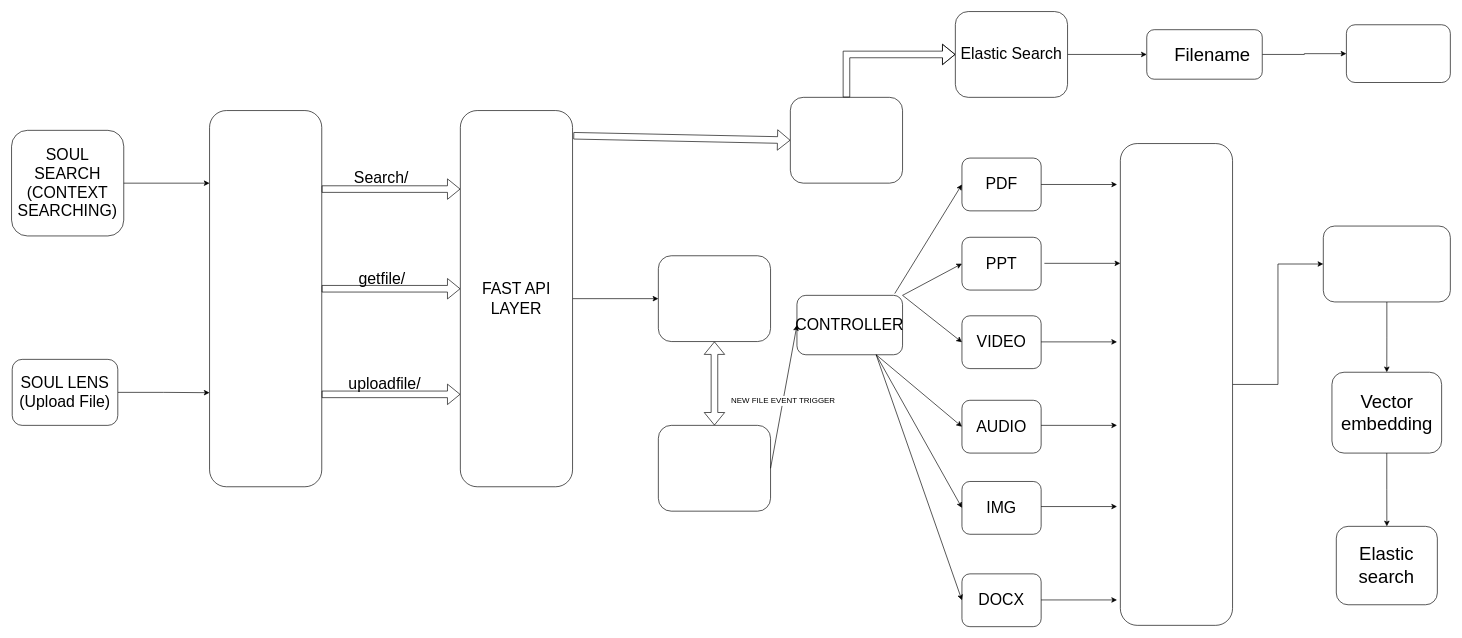
Some shapes in this 1462 by 638 pixel diagram are drawn without their labels. The shapes that lost their labels are listed below. From the top down, each one's centre as x and y in pixels, then its label:
At (x=1398, y=53): "Respond".
At (x=846, y=140): "PRE-PROCESS QUERY".
At (x=1386, y=263): "Language model".
At (x=265, y=298): "FRONTEND".
At (x=714, y=298): "BACKEND SERVICE PROVIDER LAYER".
At (x=1176, y=384): "PRE-PROCESSED TEXT LAYER SERVICE".
At (x=714, y=468): "STORAGE SERVICE".
